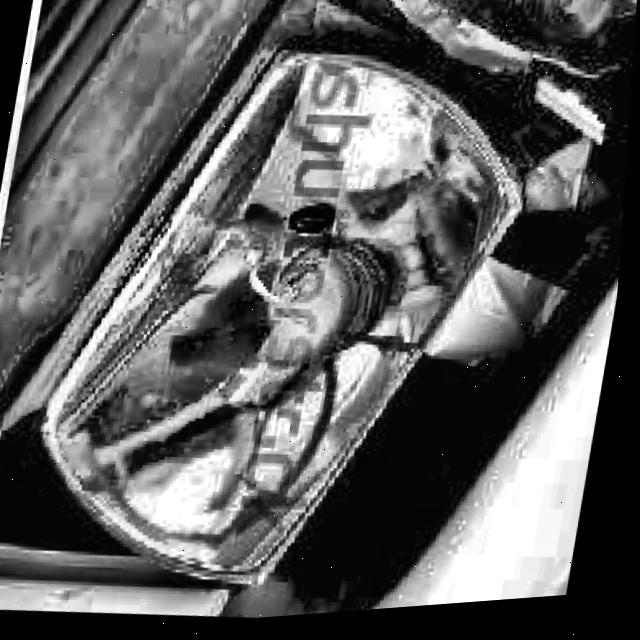head_lamp: (0, 245, 524, 637), (172, 0, 640, 324)
